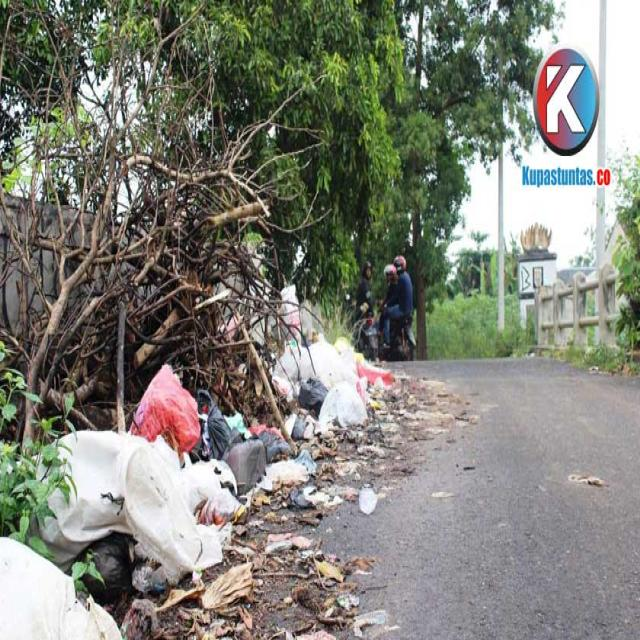trash: (2, 340, 412, 640)
